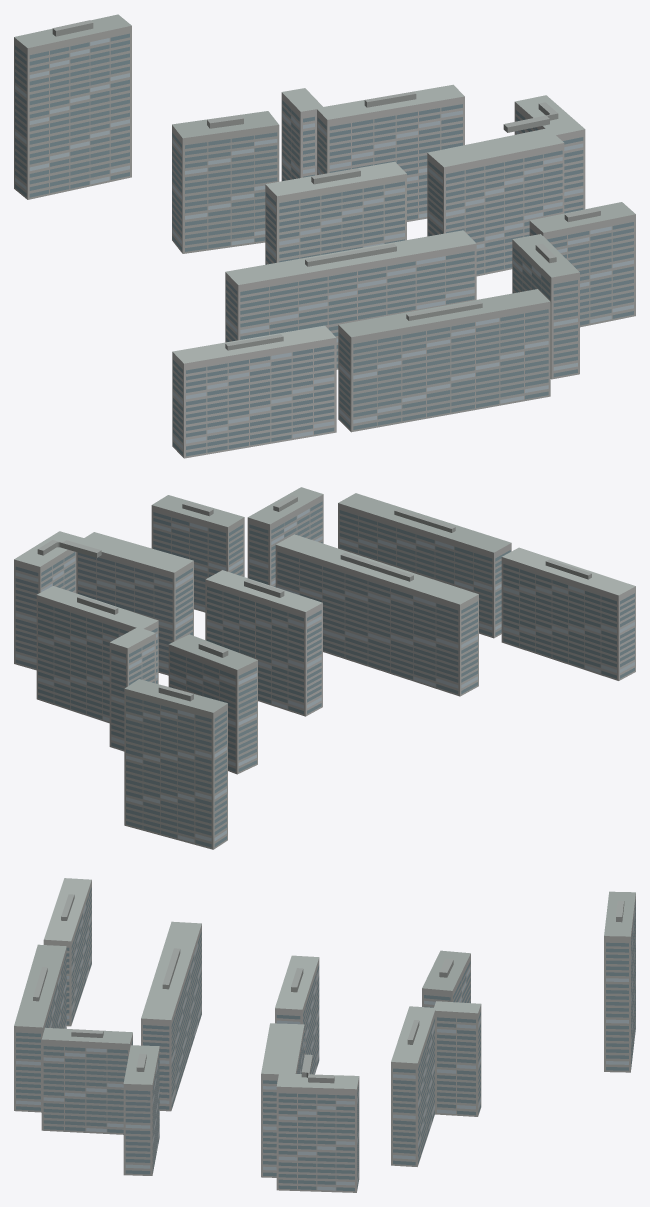
File: apt-a12007001.glb
3 renders of one model, top to bottom at view 1: azimuth 30°, elevation 25°; view 2: azimuth 150°, elevation 25°; view 3: azimuth 270°, elevation 25°, orthographic. The views are drawn at different scales.
Parts seen in each view (by area): view 1: apt-a12007001; view 2: apt-a12007001; view 3: apt-a12007001.
Boxes of the visible parts, left/top/right/bottom form: apt-a12007001: left=14, top=14, right=635, bottom=458; apt-a12007001: left=14, top=487, right=635, bottom=849; apt-a12007001: left=14, top=878, right=635, bottom=1192.
Size of the model in its own units: 227 by 65 by 259.
